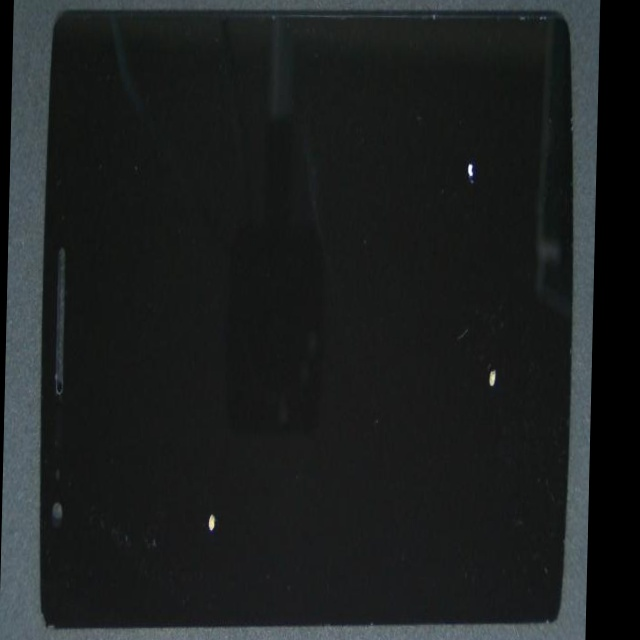stain: (205, 187, 596, 640), (206, 109, 598, 347), (66, 261, 312, 640)
